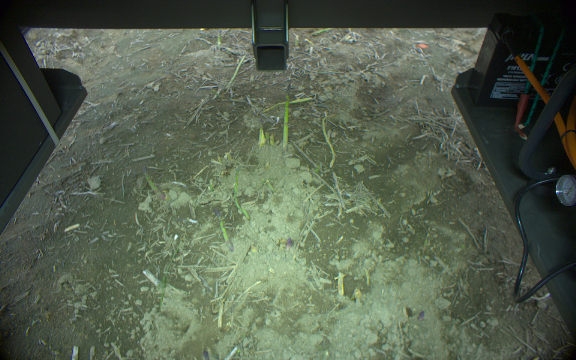aspa: (320, 111, 339, 169), (211, 207, 234, 252), (281, 83, 295, 152), (141, 165, 165, 203), (215, 29, 224, 47)
